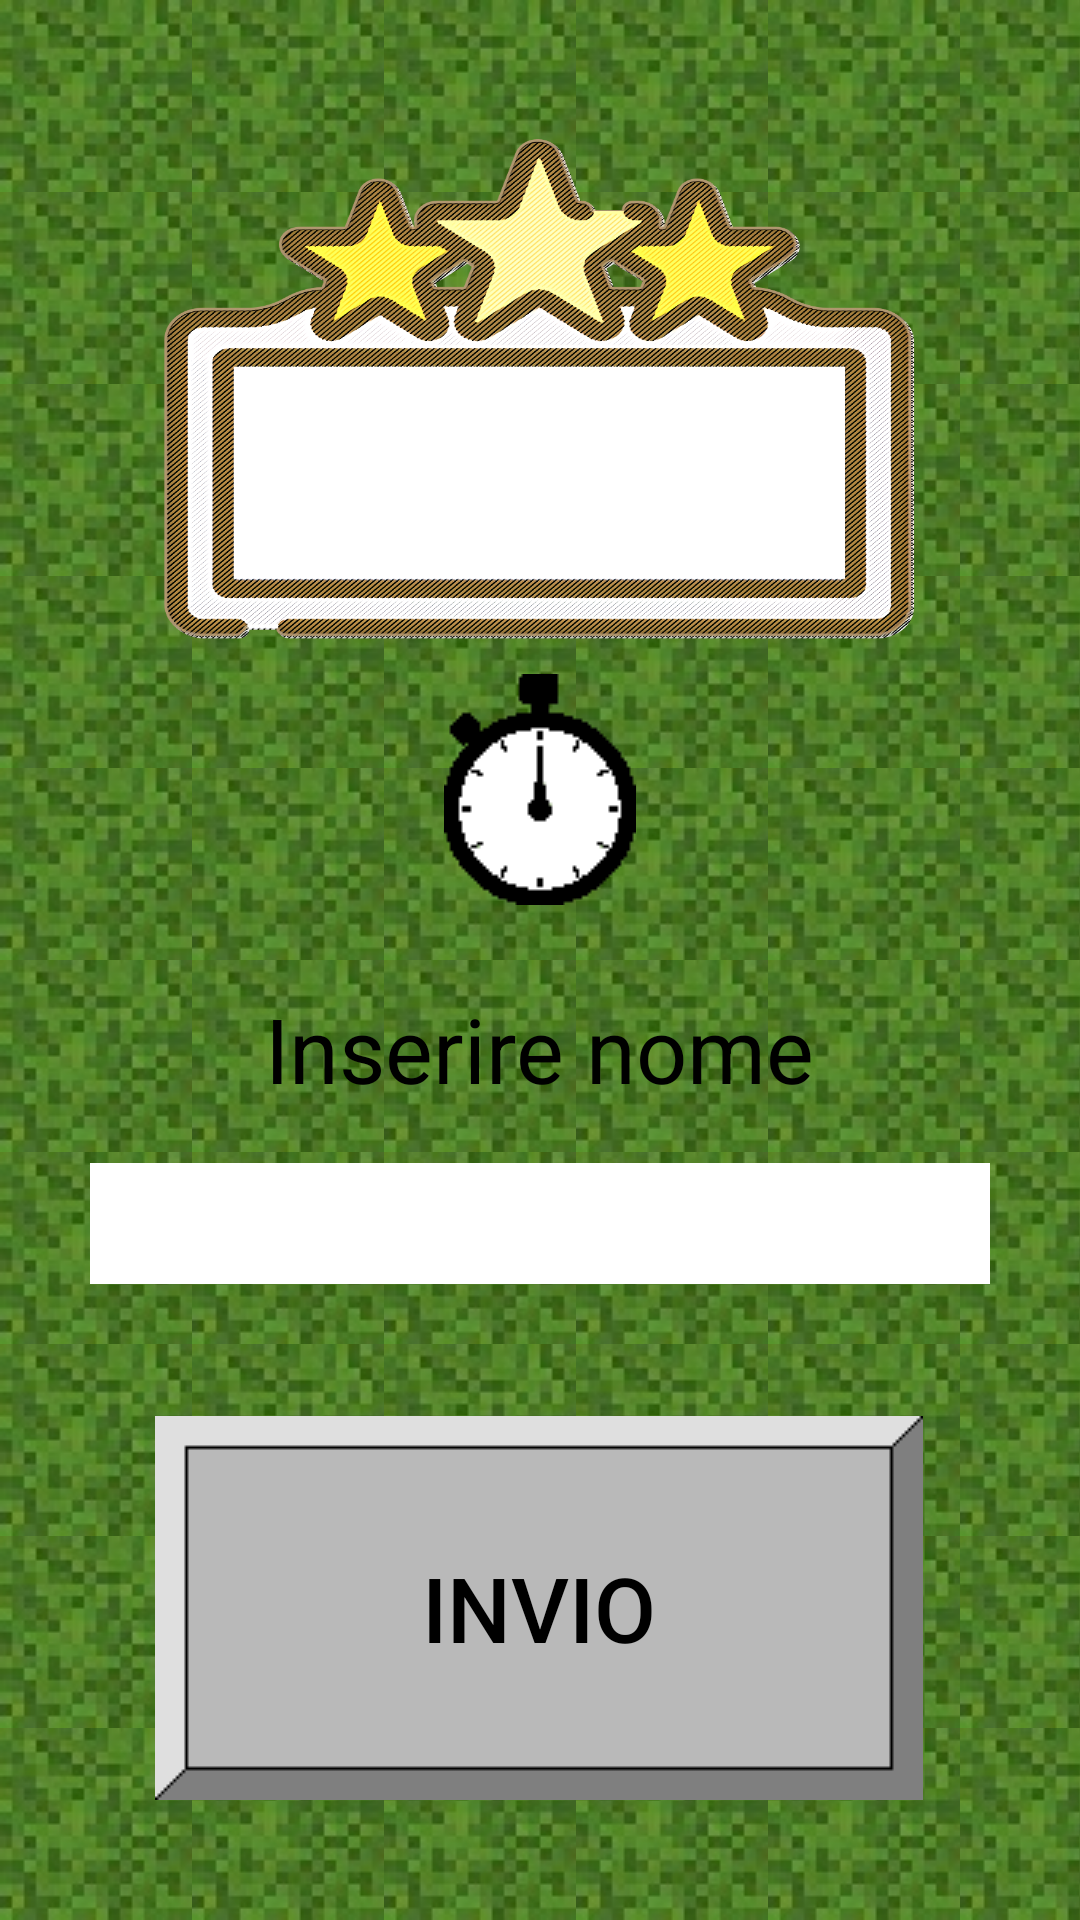

Icons on this 1080w x 1920h Android screen, each with the point to tap as point (x, y):
clock: point (540, 789)
